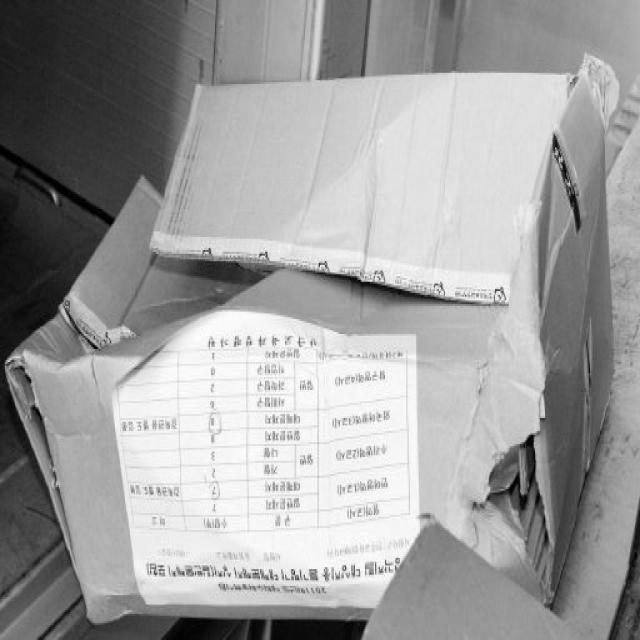hole: (487, 433, 571, 594)
